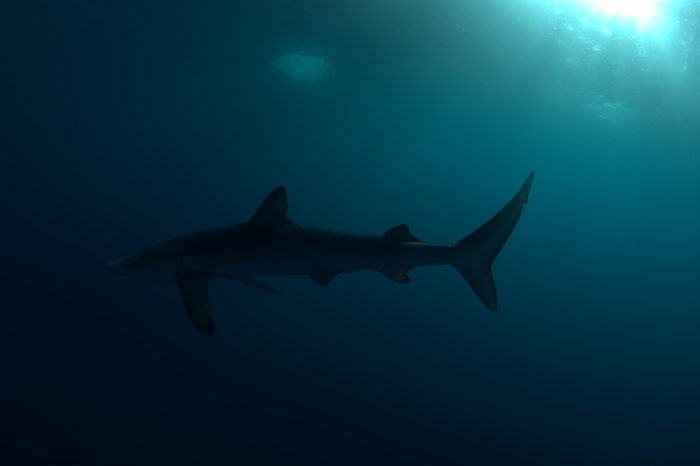Azul: (99, 160, 540, 343)
